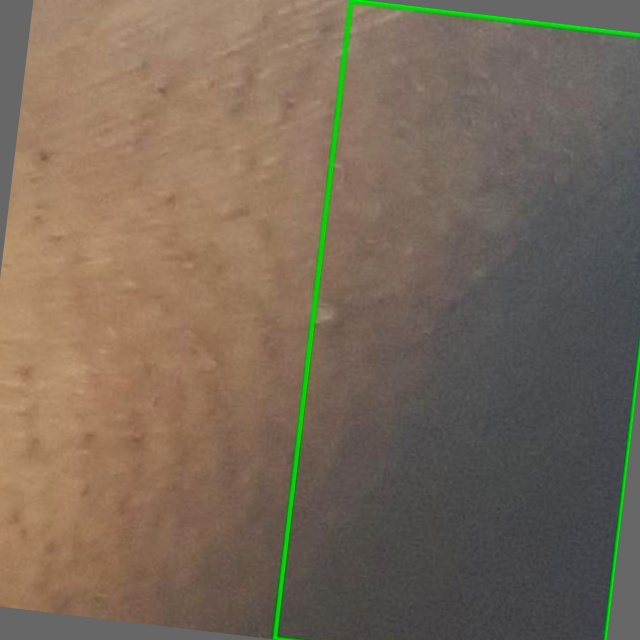Contact Dermatitis: (274, 0, 639, 639)
